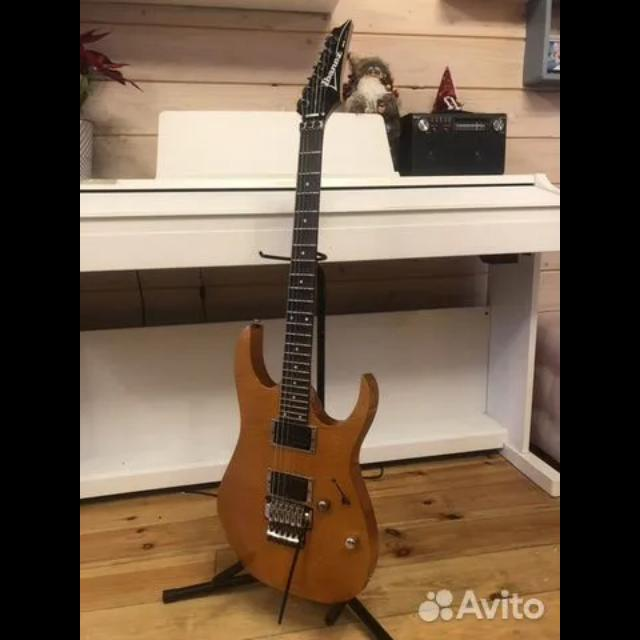Electric-Guitar: (218, 20, 378, 602)
